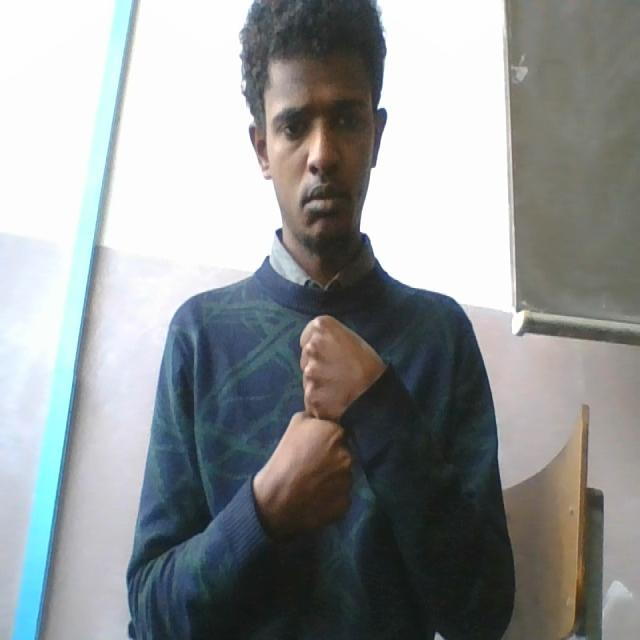meqebel: (277, 311, 363, 539)
